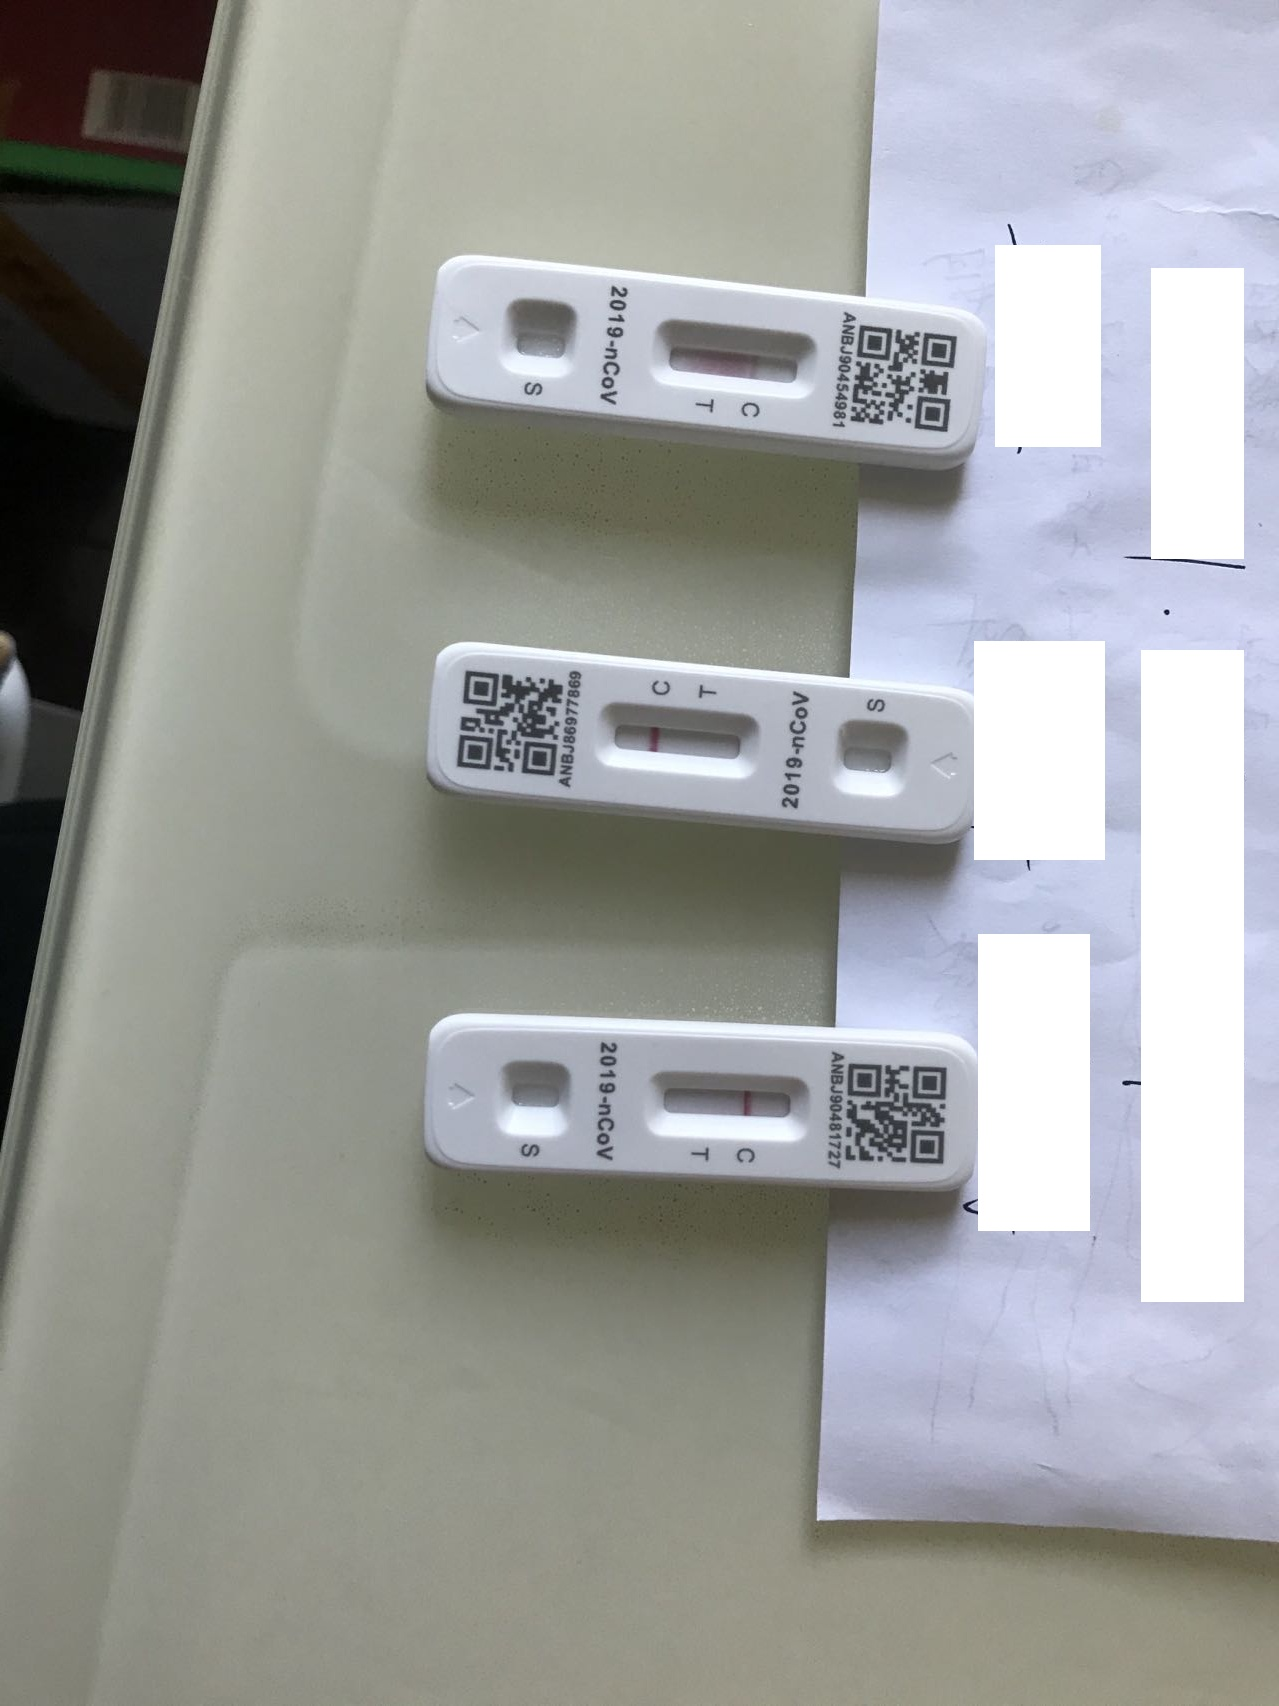negative: (648, 317, 822, 402), (644, 1071, 811, 1142)
